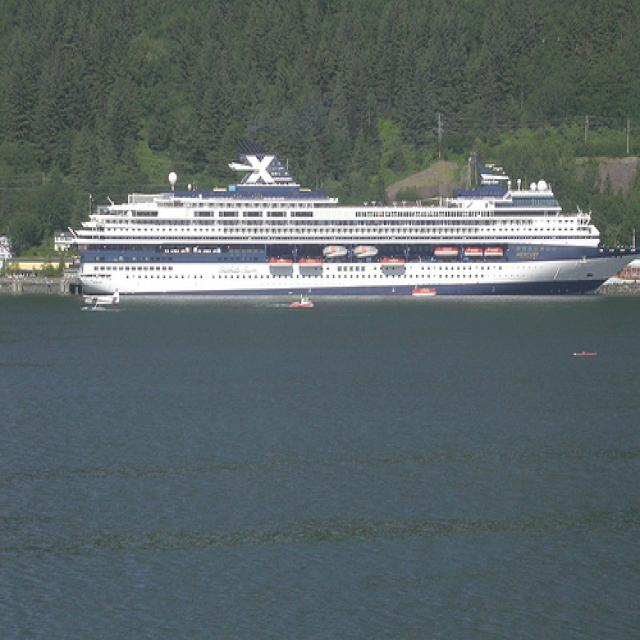aeroplane: (79, 286, 120, 315)
boat: (54, 136, 640, 296), (290, 291, 316, 310), (412, 284, 437, 300), (573, 349, 598, 358)
